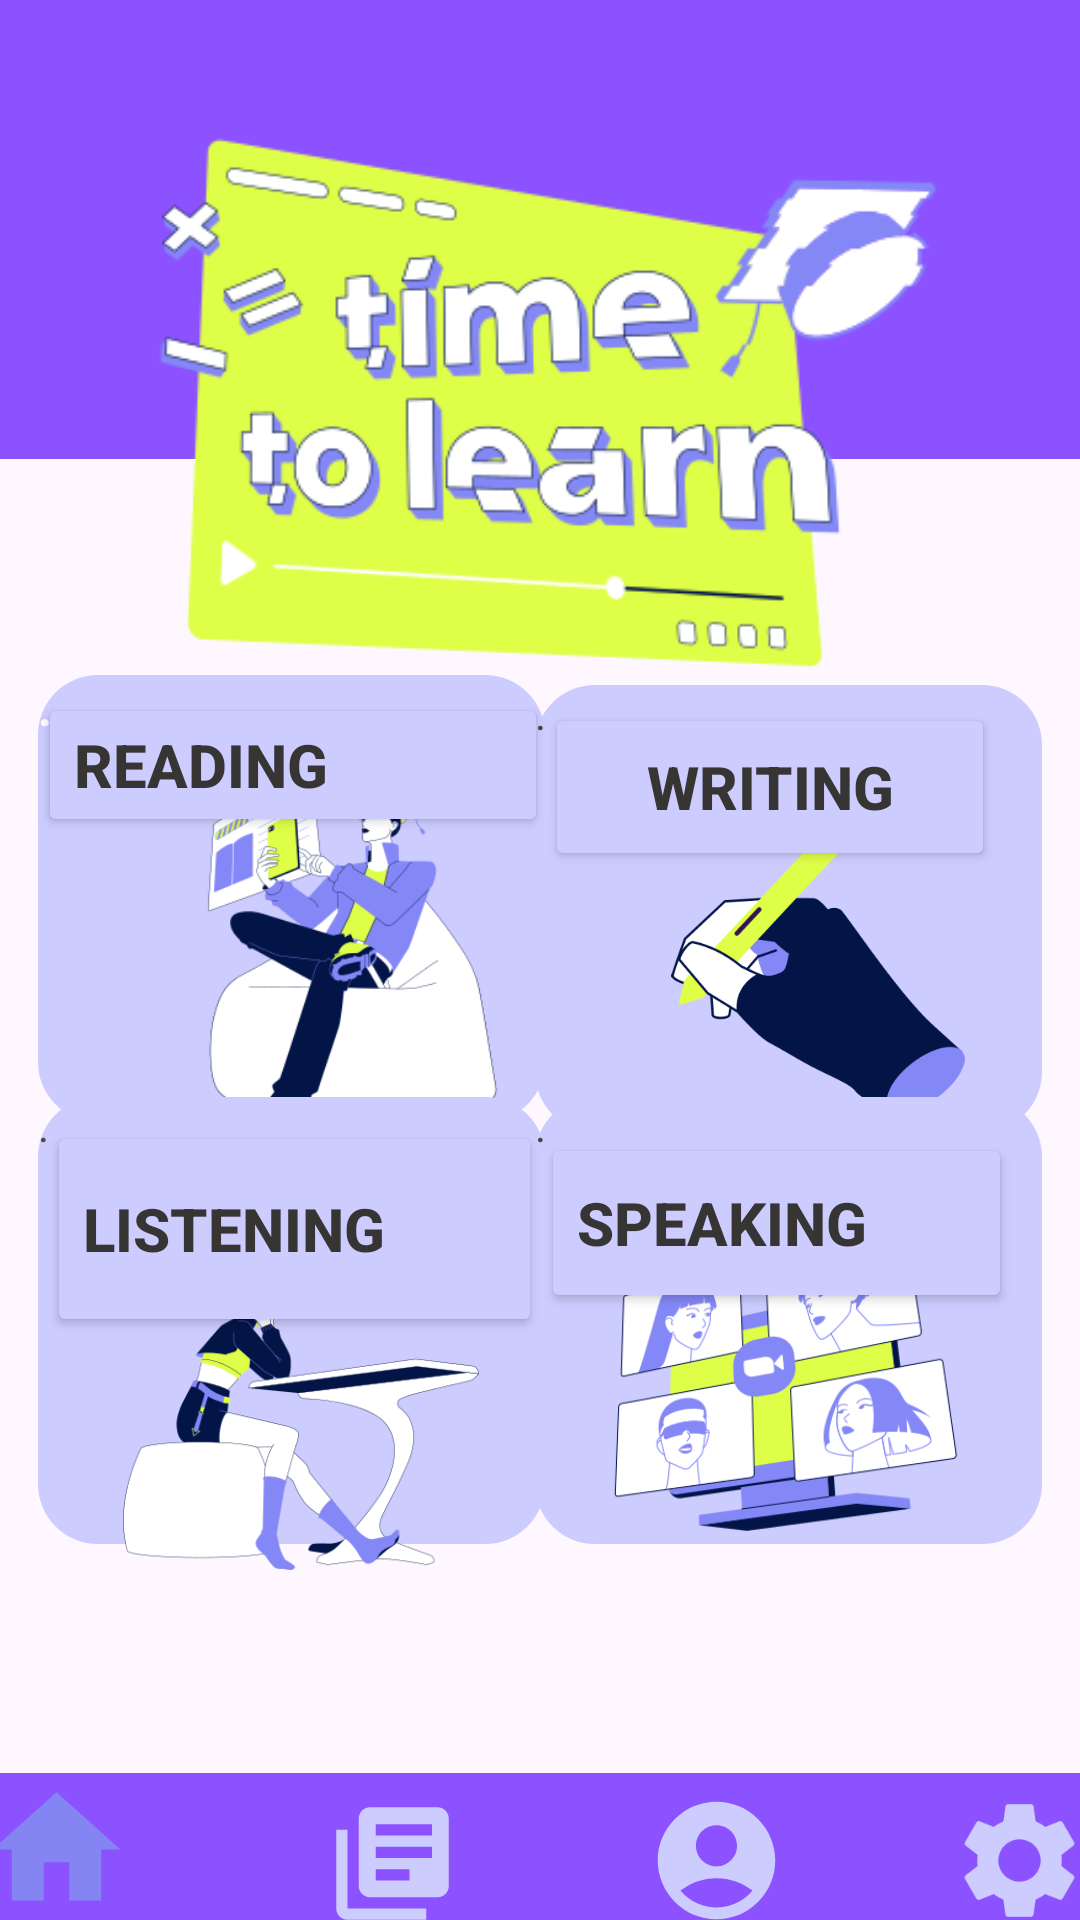

Icon click points for this 1080 × 1920 phone screenshot, format point (x, y):
accounttt circle: point (716, 1860)
library books: point (392, 1863)
